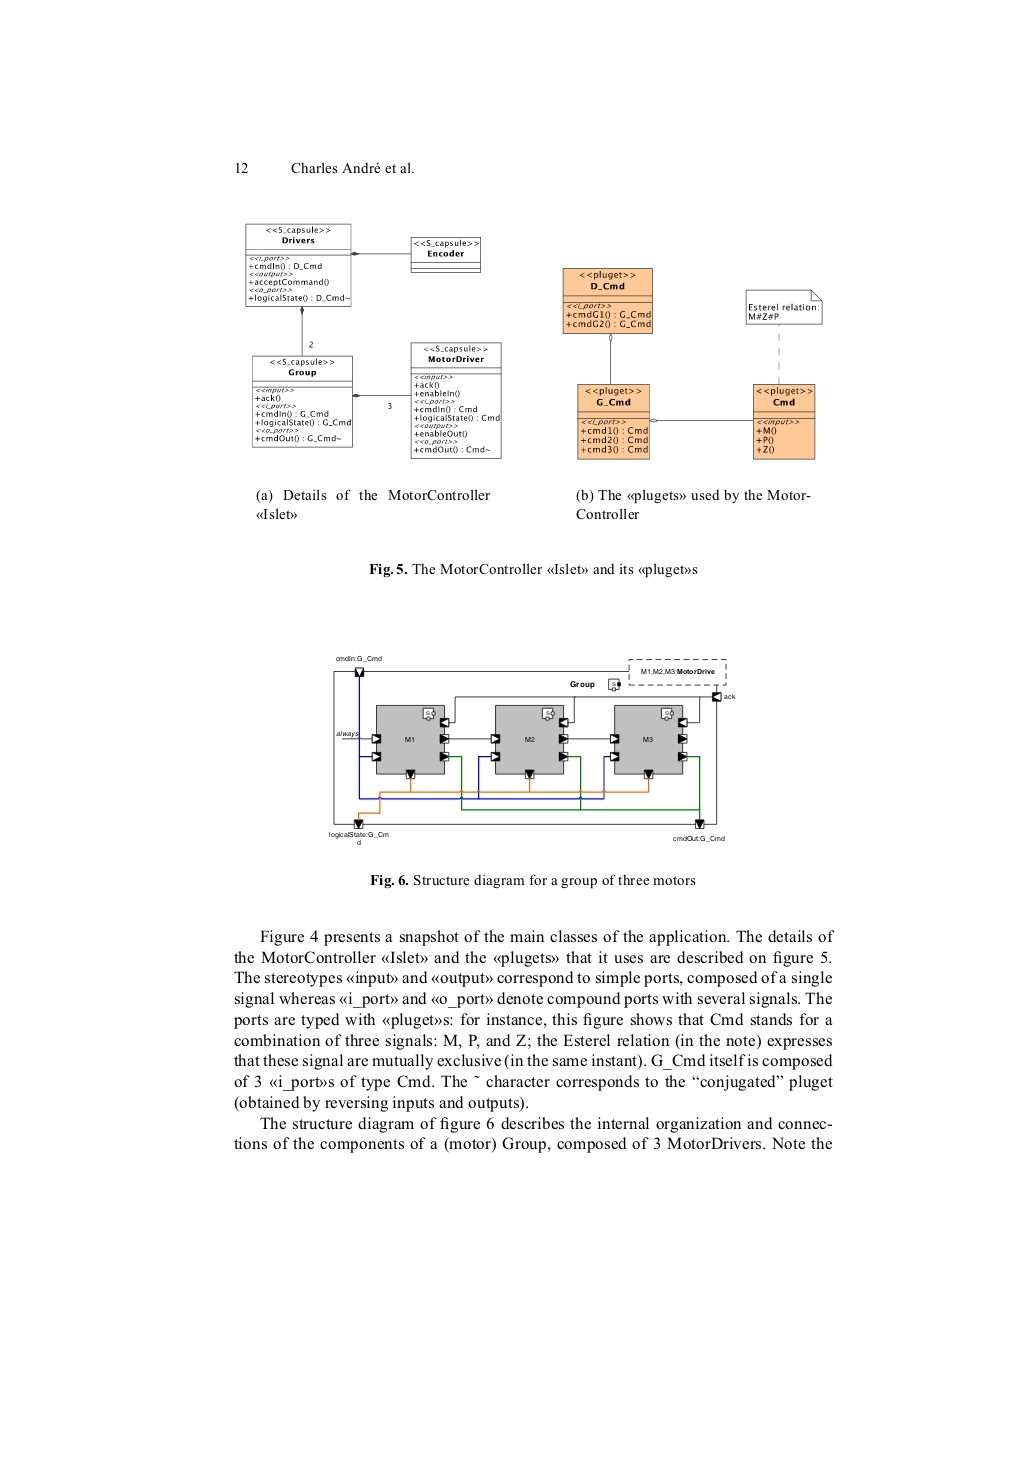figure: (329, 654, 735, 846), (245, 222, 501, 458), (562, 267, 822, 460)
